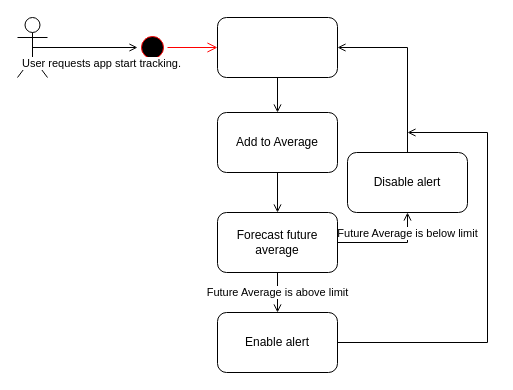
The diagram is 513 pixels wide and 390 high, and some of its shapes have lost their labels. Each missing label, with the centre of its shape:
"Determine current speed" belongs at [277,47].
"User" belongs at [32,47].
